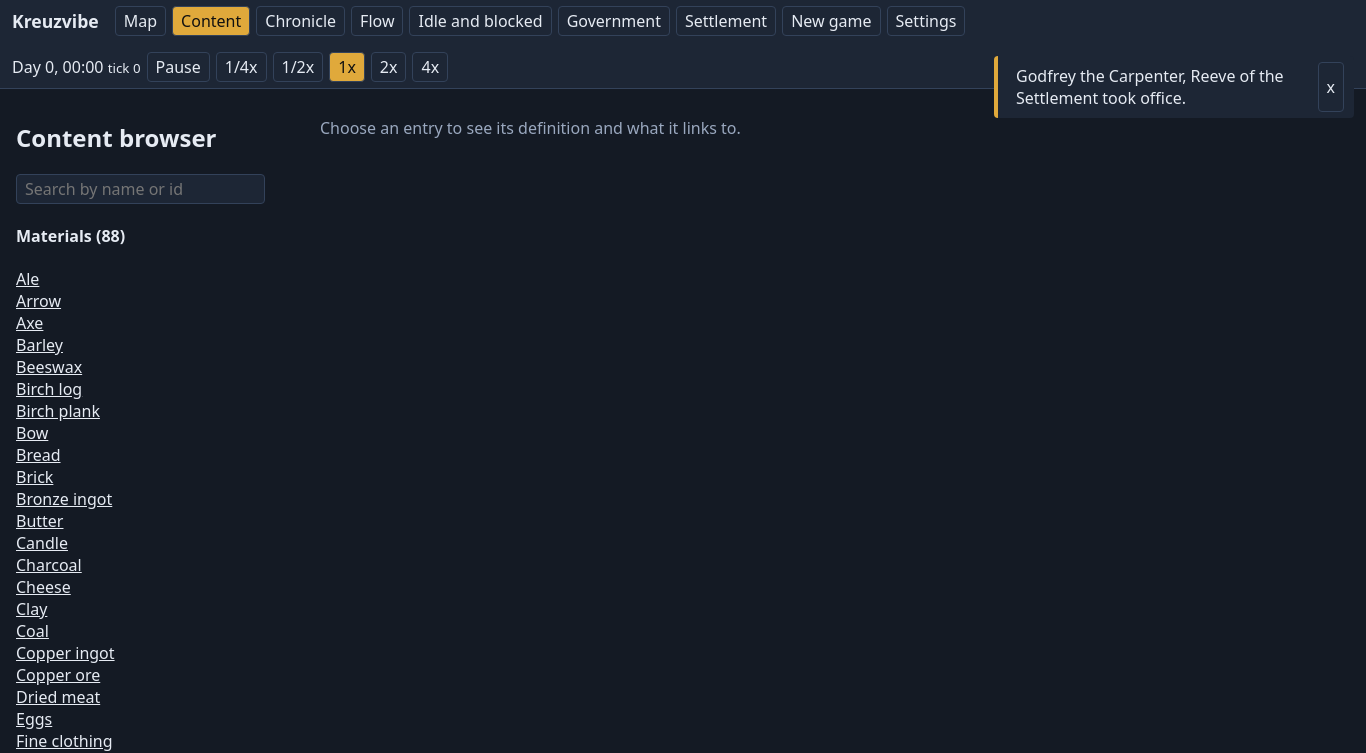
Test case: ContentScreen › offers Keep in stock on a material and a recipe card and opens the form prefilled
This screenshot has width=1366, height=753.
Type "bake_bread" into the search field named "Search content".
click(140, 189); type("bake_bread")  # box [16,174,265,204]
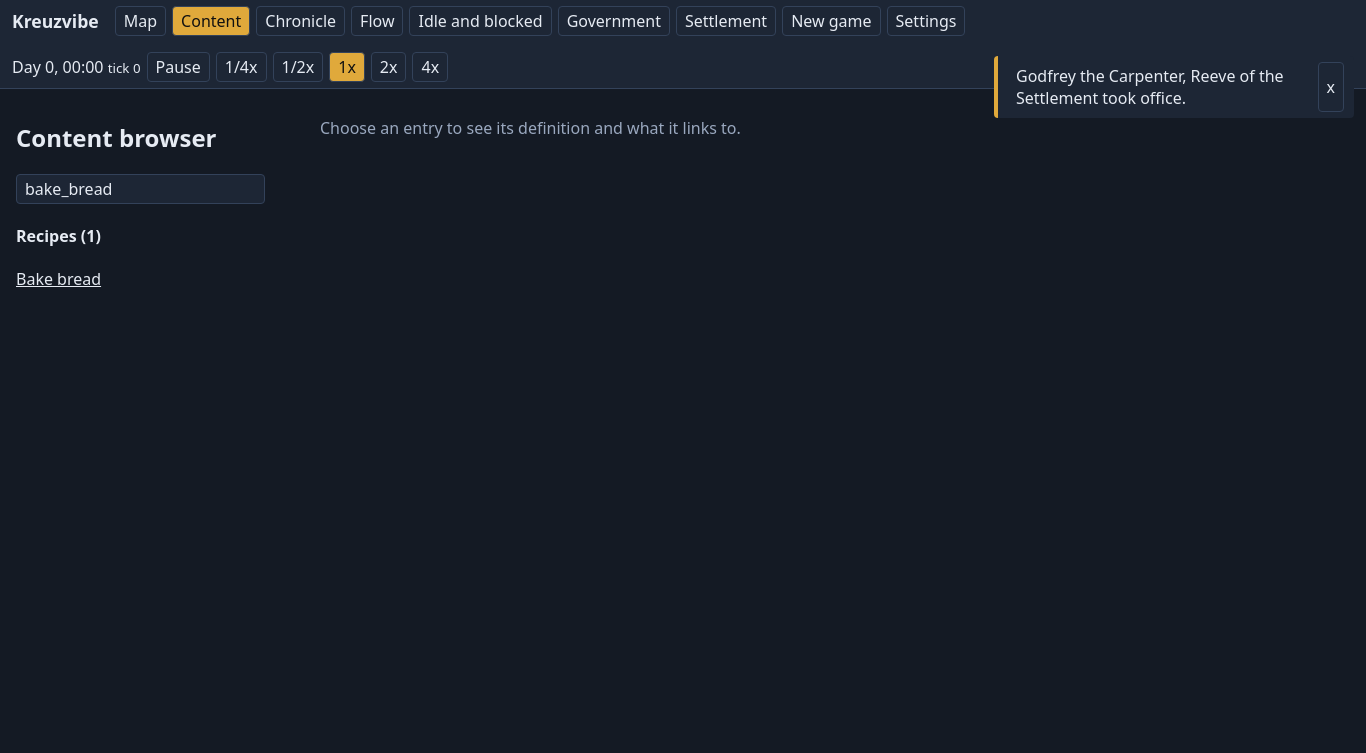
Click the button "Bake bread".
click(59, 279)  # box [16,268,101,290]
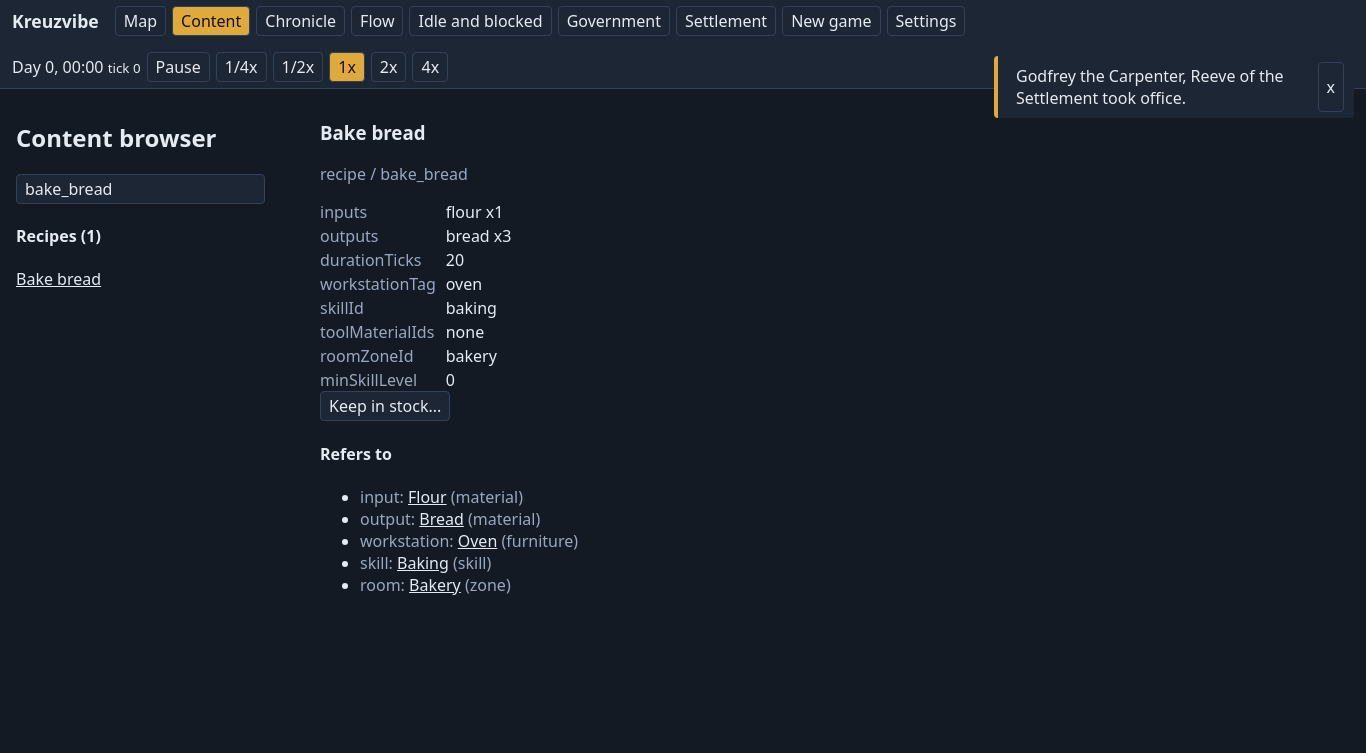
Click the button with aria-label "Keep bread in stock".
click(385, 406)  # box [320,391,450,421]
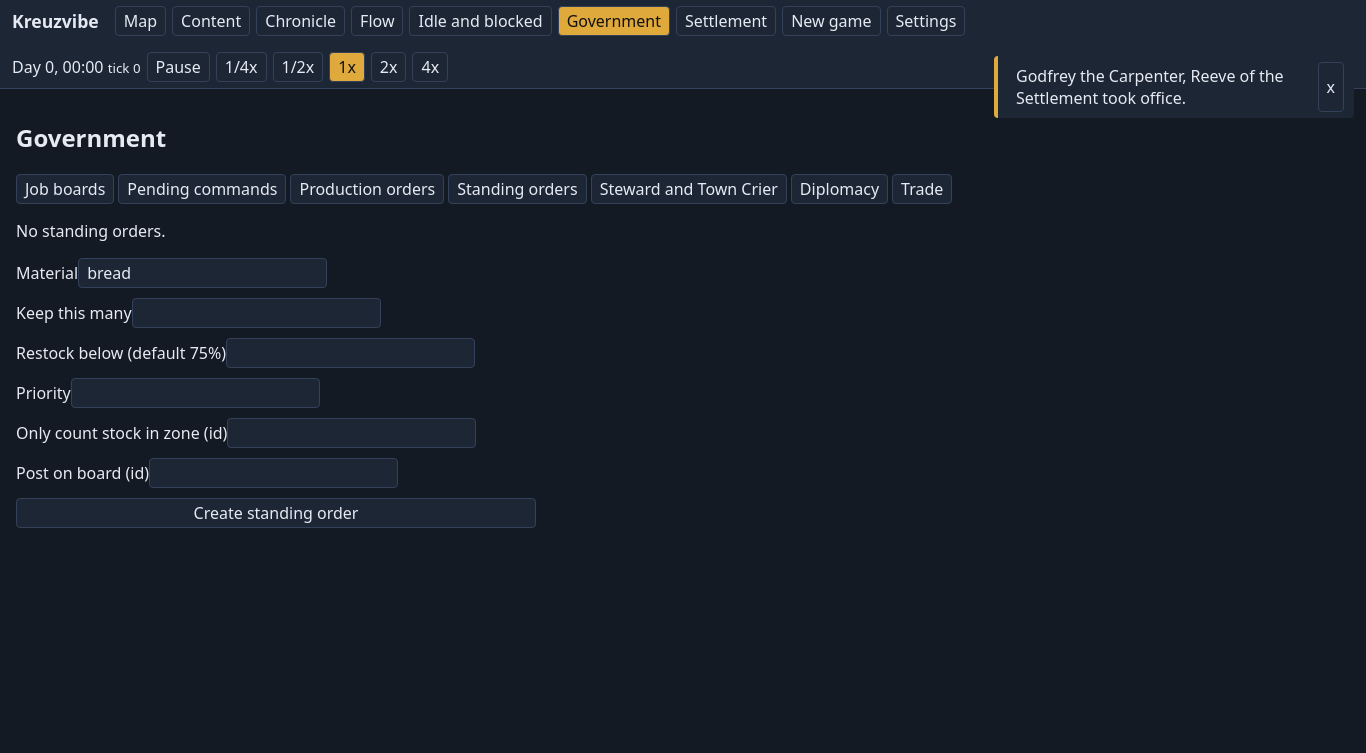
Now the field labelled "Material" holds "bread", box [78,258,327,288]
